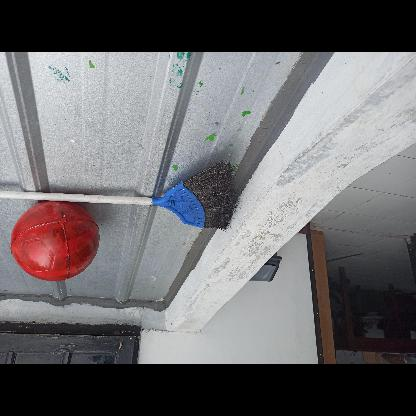red_ball: (11, 198, 98, 286)
